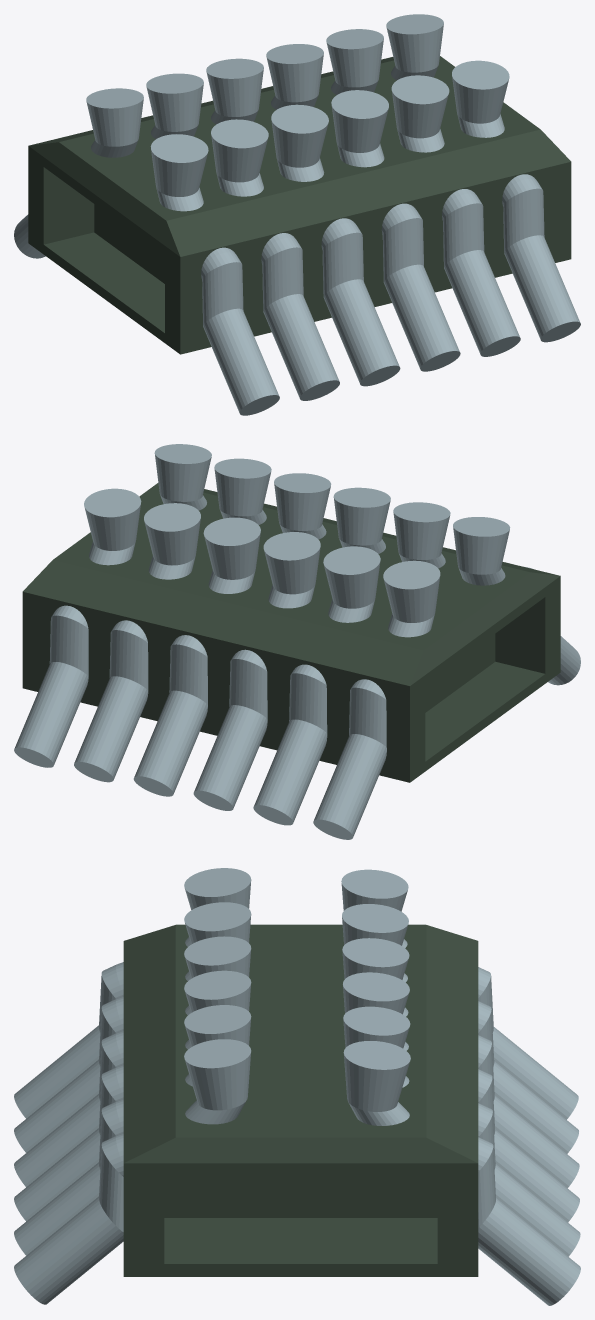
File: v12 engine.fbx
The picture shows the model from 3 angles, top to bottom: view 1: azimuth 30°, elevation 25°; view 2: azimuth 150°, elevation 25°; view 3: azimuth 270°, elevation 25°; orthographic projection. The views are drawn at different scales.
Visible parts, largest first — view 1: Cylinder.001; view 2: Cylinder.001; view 3: Cylinder.001.
Part boxes in pixels (left/top/right/bottom): Cylinder.001: left=14, top=14, right=580, bottom=415; Cylinder.001: left=14, top=444, right=580, bottom=839; Cylinder.001: left=14, top=868, right=580, bottom=1305.
Size of the model in its own units: 795 by 418 by 857.
